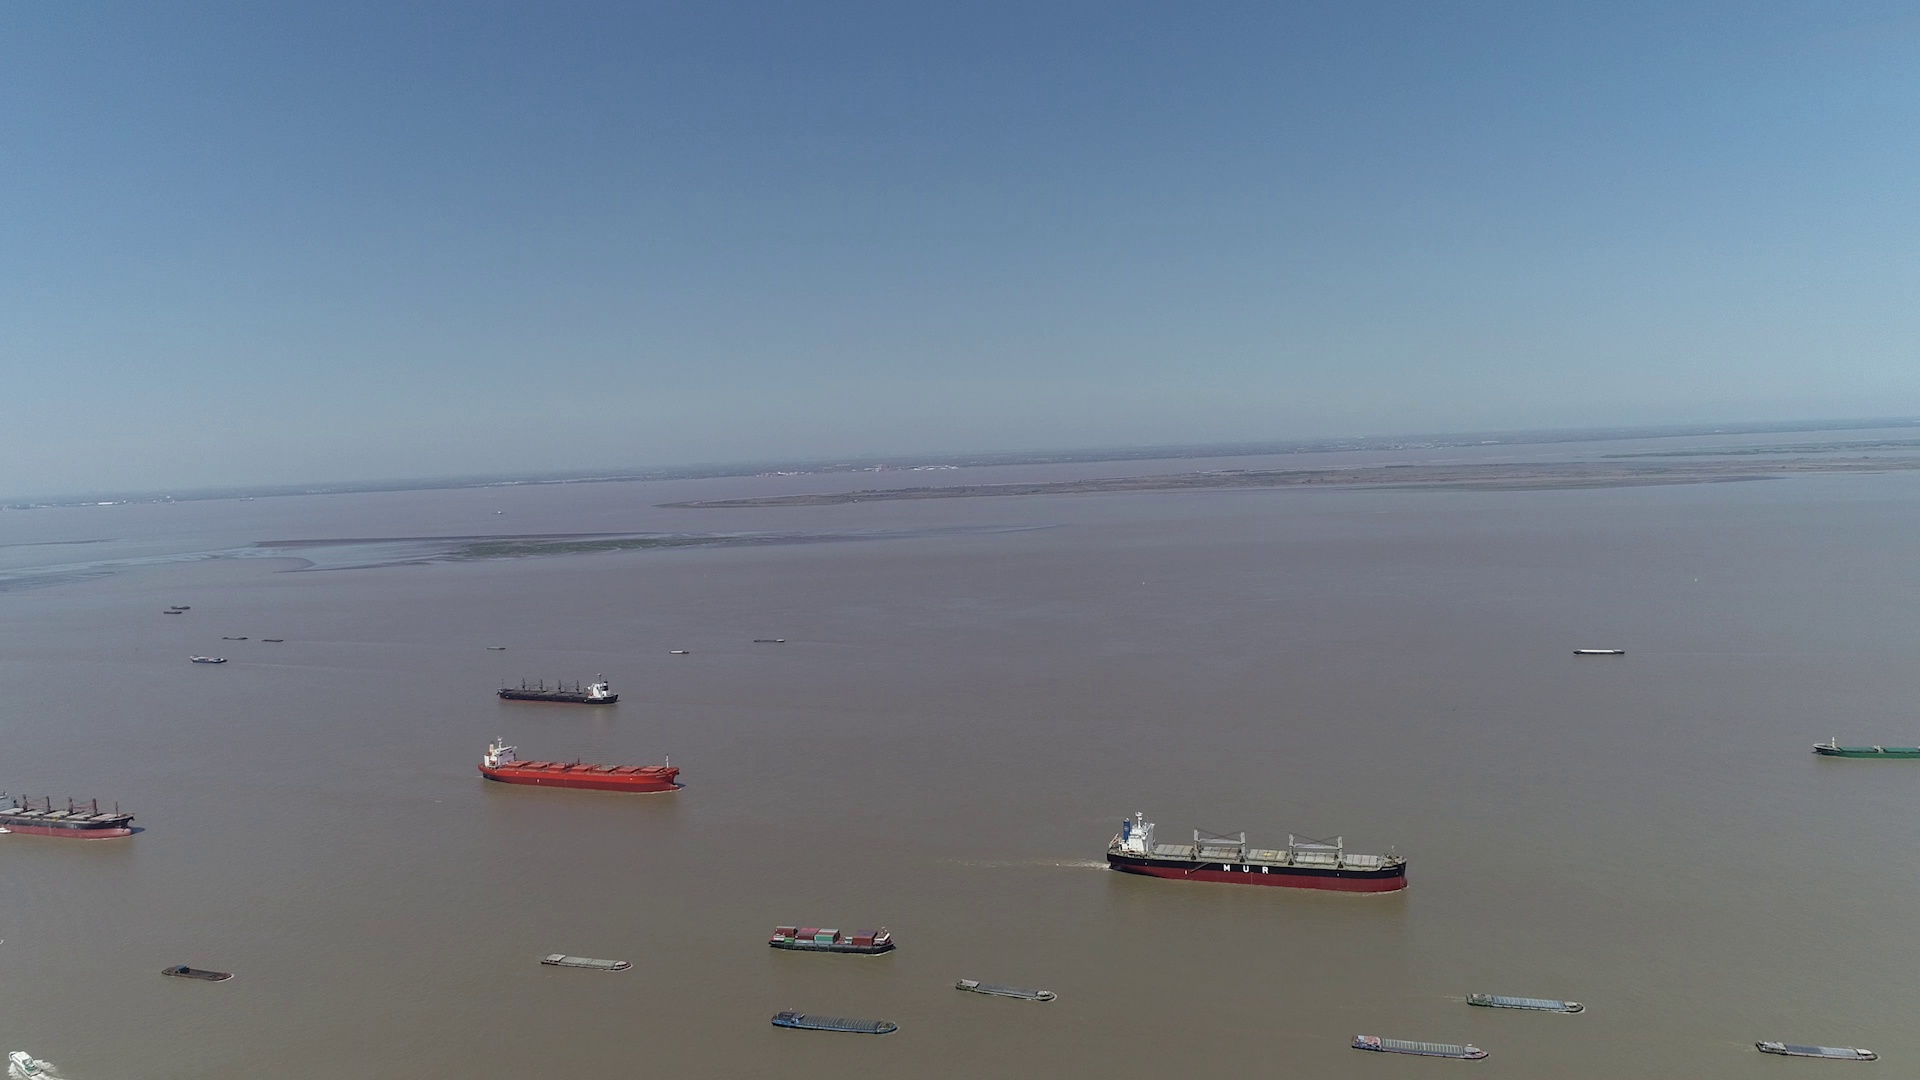ship: (1106, 812, 1410, 894), (477, 733, 680, 791), (0, 789, 137, 839), (767, 923, 894, 955), (495, 675, 620, 705), (1352, 1033, 1485, 1060), (770, 1009, 897, 1034), (1754, 1036, 1878, 1062), (1465, 992, 1586, 1015), (955, 978, 1055, 1002), (1813, 738, 1917, 760), (545, 953, 634, 972), (7, 1046, 54, 1079), (162, 967, 233, 981), (1573, 647, 1626, 655), (189, 655, 228, 665)
